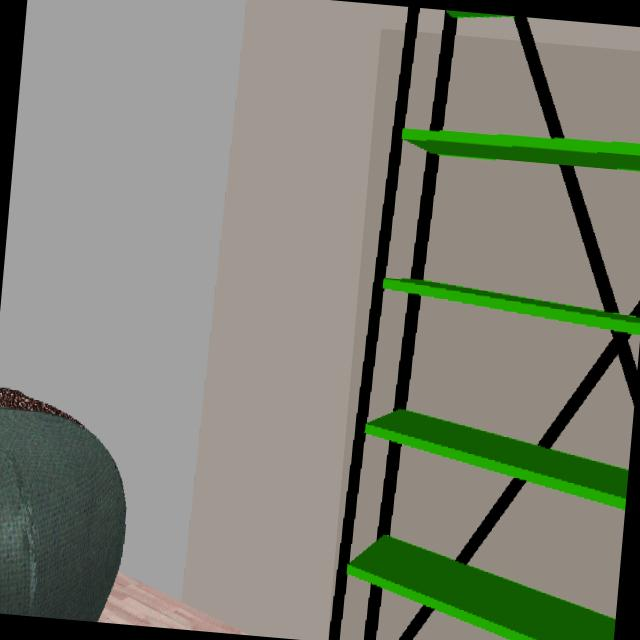shelf: (327, 30, 640, 640)
